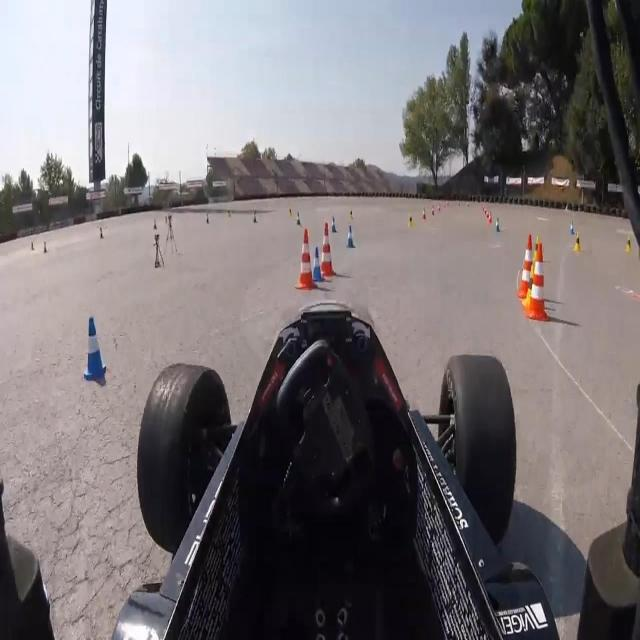blue_cone: (85, 316, 109, 382), (312, 246, 325, 282), (345, 224, 355, 250), (568, 220, 575, 236), (332, 218, 338, 234), (296, 212, 302, 228), (494, 220, 500, 236)
large_orange_cone: (526, 248, 546, 321), (296, 228, 314, 294), (517, 236, 535, 302), (322, 221, 336, 278)
orange_cone: (422, 208, 427, 221), (488, 212, 492, 228), (486, 207, 489, 218), (432, 207, 434, 216)
yellow_cone: (520, 266, 535, 307), (532, 238, 542, 263), (624, 233, 633, 256), (574, 235, 582, 256), (288, 207, 294, 221), (348, 209, 354, 222), (408, 213, 412, 230)
